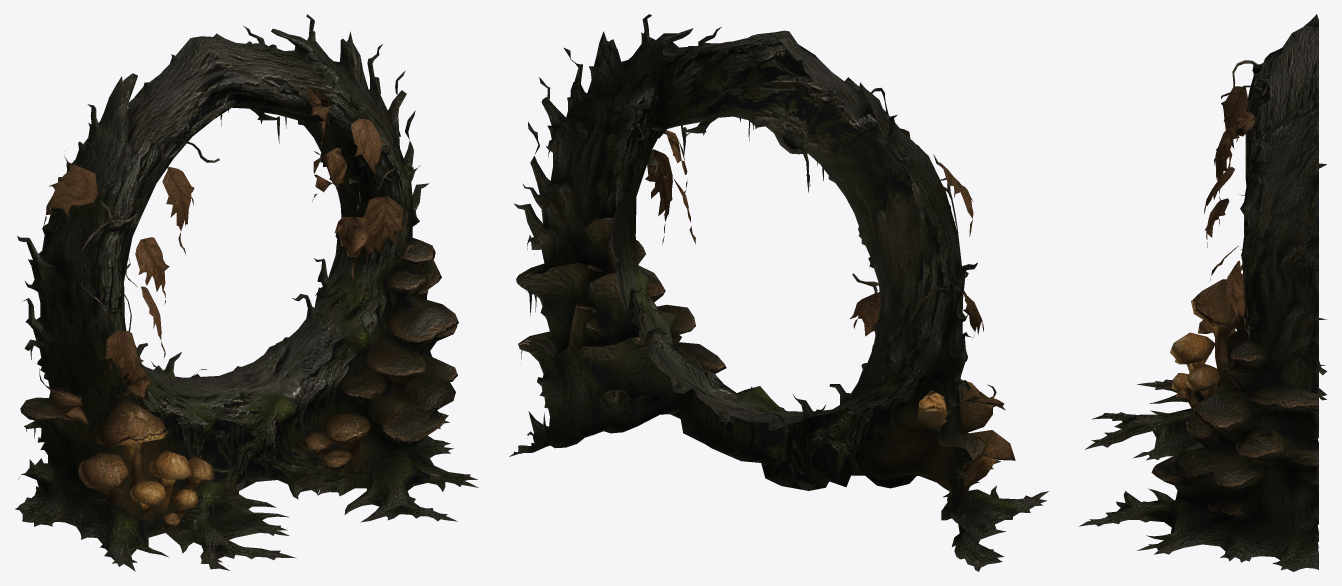
Rendered from 019f5bce-b5af-74de-b805-9b05e59f83ec.glb.
3 views of the same model, side by side, from view 1: azimuth 30°, elevation 25°; view 2: azimuth 150°, elevation 25°; view 3: azimuth 270°, elevation 25° (orthographic). The views are drawn at different scales.
Visible parts, largest first — view 1: tripo_node_c929ca96-ace8-4d45-b132-11d8d94e9d32; view 2: tripo_node_c929ca96-ace8-4d45-b132-11d8d94e9d32; view 3: tripo_node_c929ca96-ace8-4d45-b132-11d8d94e9d32.
Part boxes in pixels (x1,y1,x2,y2): tripo_node_c929ca96-ace8-4d45-b132-11d8d94e9d32: (15, 14, 478, 571); tripo_node_c929ca96-ace8-4d45-b132-11d8d94e9d32: (509, 14, 1048, 571); tripo_node_c929ca96-ace8-4d45-b132-11d8d94e9d32: (1079, 14, 1327, 571).
Bounding box in the file's own units: 0.998 × 0.9668 × 0.5059.
Materials: 1 (1 with a texture image).
